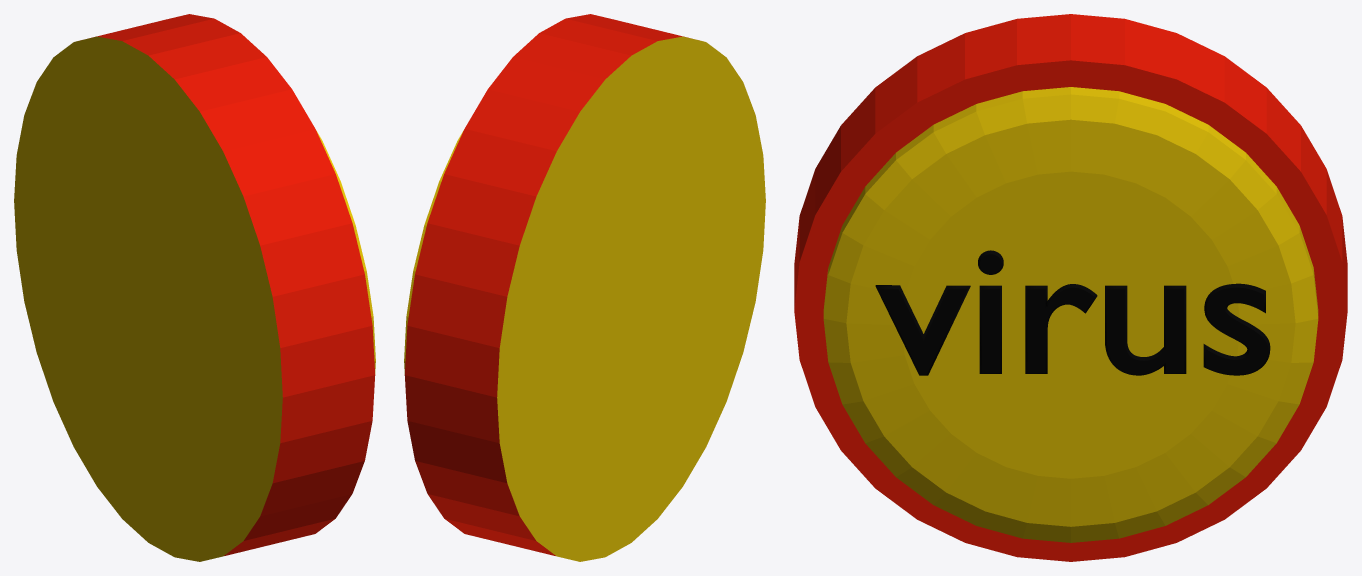
The model's file is virus button.gltf.
3 views of the same model, side by side, from view 1: azimuth 30°, elevation 25°; view 2: azimuth 150°, elevation 25°; view 3: azimuth 270°, elevation 25° (orthographic). The views are drawn at different scales.
Visible parts, largest first — view 1: Cylinder; view 2: Cylinder; view 3: Cylinder, Text.
Boxes of the visible parts, bbox=[...] form: Cylinder: bbox=[14, 14, 375, 561]; Cylinder: bbox=[404, 14, 765, 561]; Cylinder: bbox=[794, 14, 1347, 561]; Text: bbox=[875, 250, 1270, 375].
Size of the model in its own units: 0.533 by 2 by 2.
